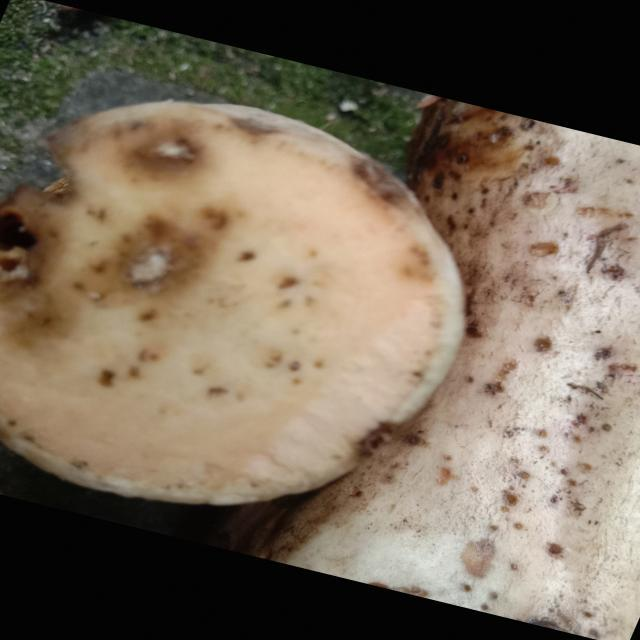Sick Sweet Potato_Tuber Rot: (0, 101, 463, 505)
